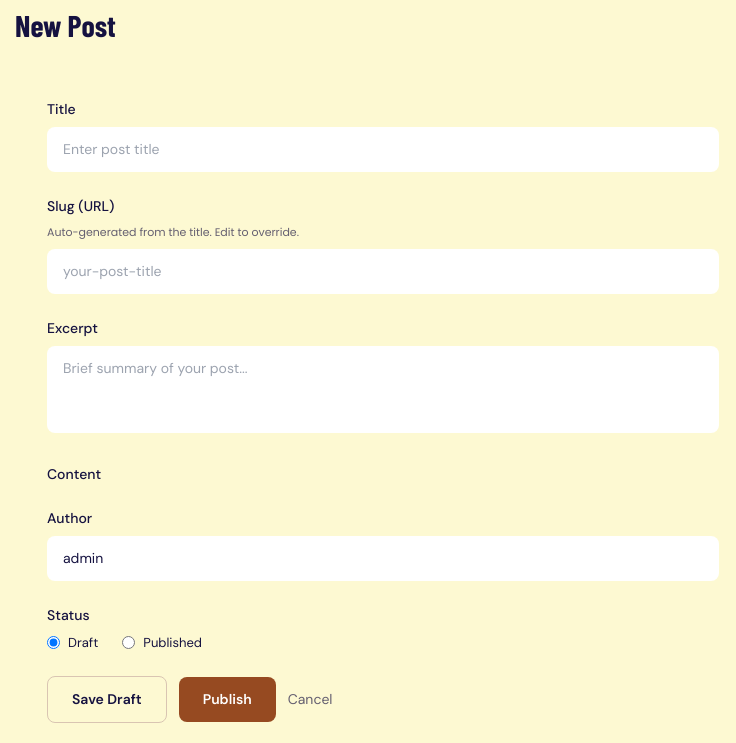
Scenario: PostForm › shows a validation error when the title is empty
Click the button "Save Draft" at (107, 700), box [47,676,167,723]
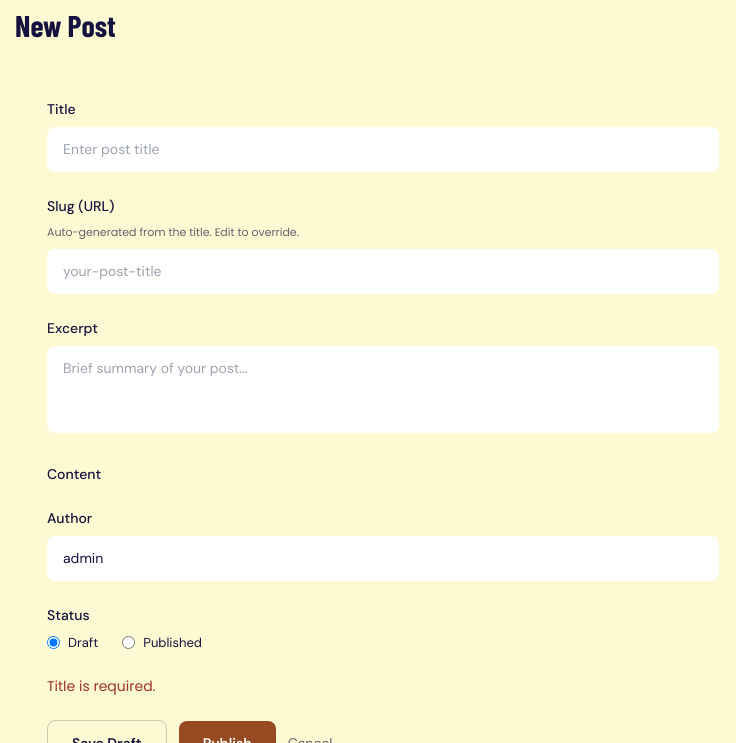
Result: the text "Title is required." is shown at [47,676,156,696]
